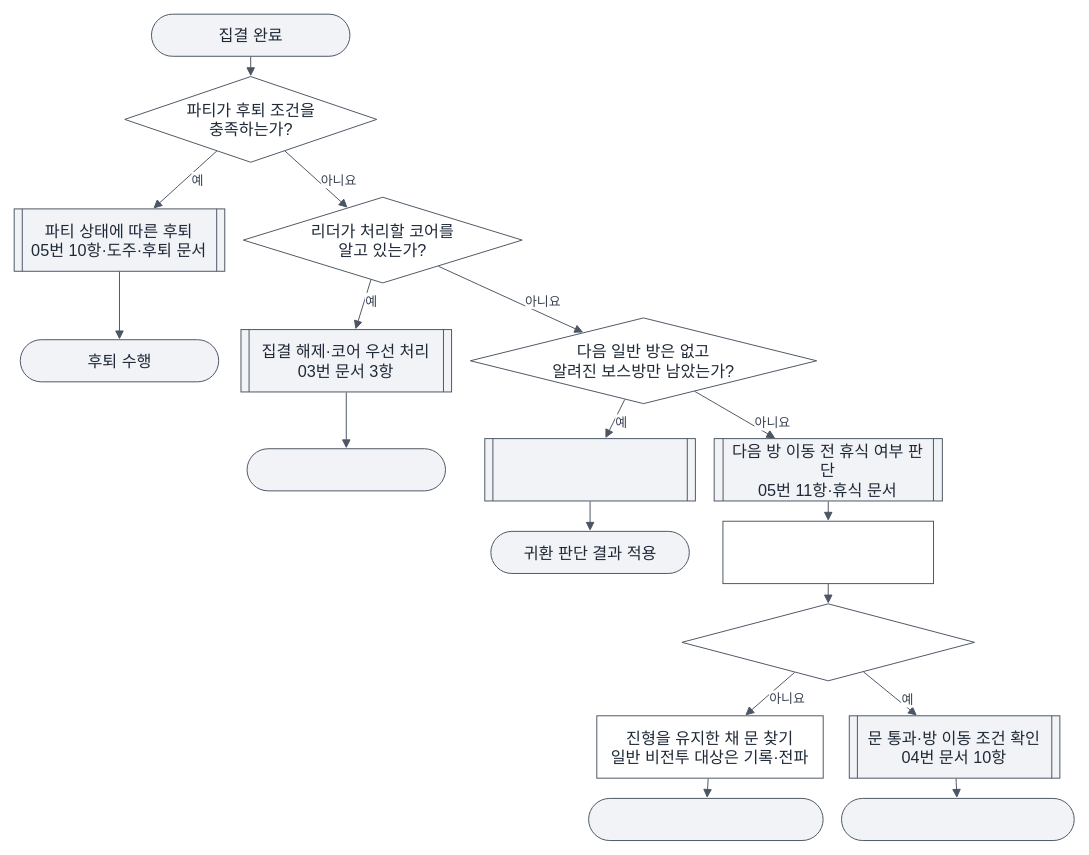
The diagram is 1089 pixels wide and 855 high, and some of its shapes have lost their labels. The shapes that lost their labels are listed below. From the top down, each one's centre as x and y in pixels, then its label:
At point 346,469: "코어 처리 후 재집결".
At point 589,469: "정상 귀환 판단 01번 문서 8항".
At point 828,552: "리더의 다음 방 이동 결정 진형·공동 속도로 이동".
At point 828,642: "다음 문을 발견했는가?".
At point 705,819: "문·코어 등 새 정보로 재판단".
At point 957,819: "새 방 진입 후 개인 행동 판단".
